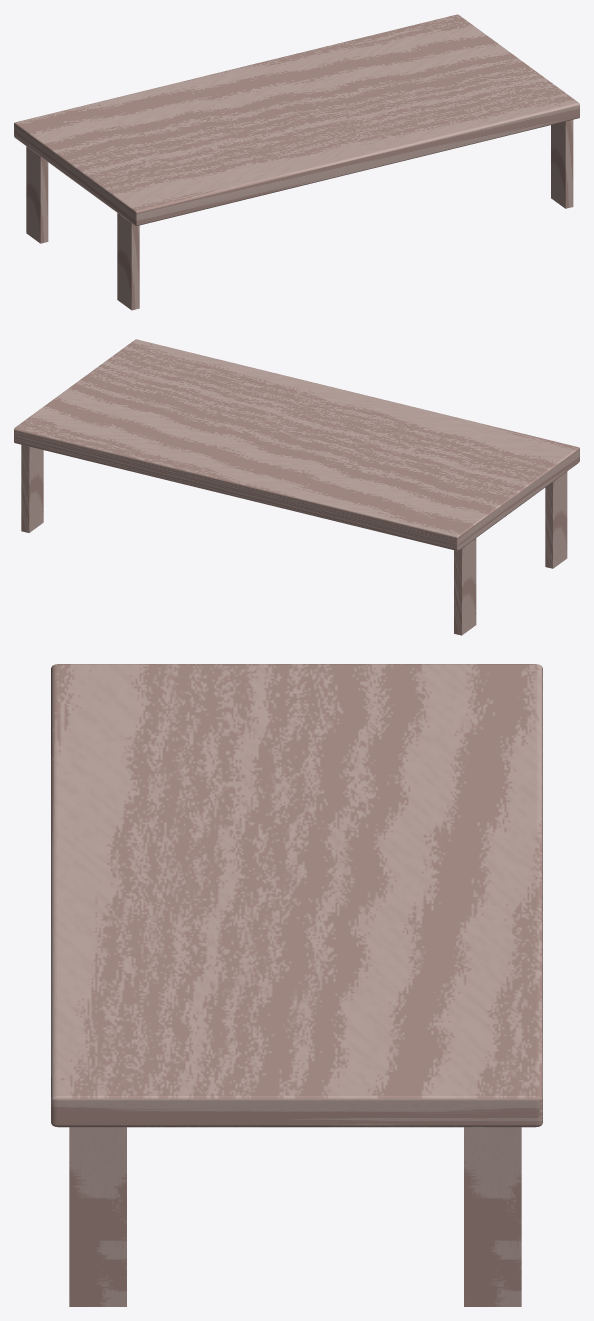
The model's file is dining_table.fbx.
3 renders of one model, top to bottom at view 1: azimuth 30°, elevation 25°; view 2: azimuth 150°, elevation 25°; view 3: azimuth 270°, elevation 25°, orthographic. The views are drawn at different scales.
Parts seen in each view (by area): view 1: cafetable:polySurface1; view 2: cafetable:polySurface1; view 3: cafetable:polySurface1.
Part boxes in pixels (x1,y1,x2,y2): cafetable:polySurface1: (14, 14, 579, 310); cafetable:polySurface1: (14, 339, 579, 635); cafetable:polySurface1: (51, 664, 542, 1306).
Size of the model in its own units: 6.15 by 1.4 by 2.94.
Materials: 1 (1 with a texture image).
